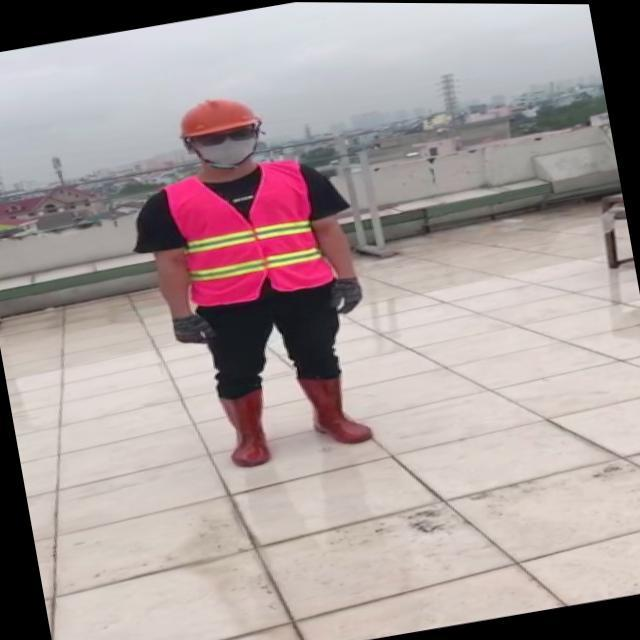goggles_on: (193, 124, 259, 147)
